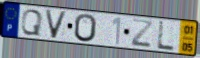1: (112, 17, 122, 46)
L: (156, 20, 176, 53)
O: (74, 13, 98, 43)
Q: (19, 9, 44, 37)
V: (43, 9, 69, 40)
Z: (130, 18, 154, 49)
